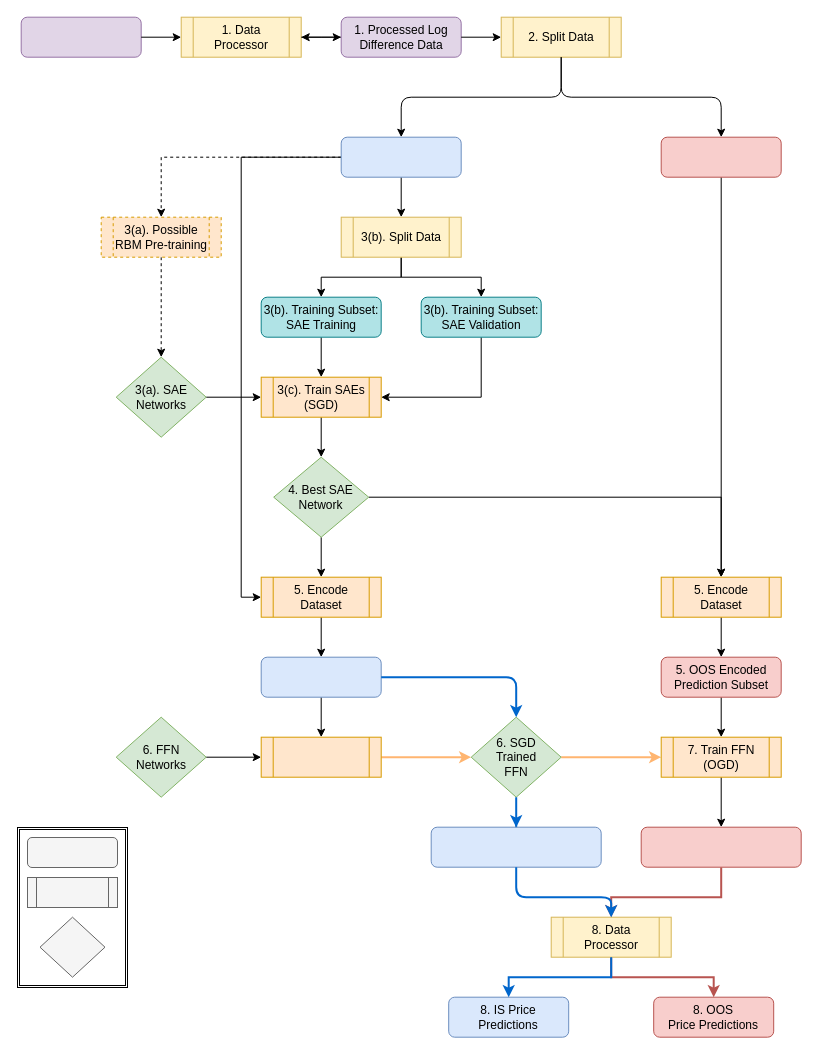
Image size: 819x1055. Some labels were removed from this diagram. Here are the shapes that lost their labels. From the top down, the centre of each, then its label:
the point at 80,36: 1. Raw Market Data
the point at 400,156: 2. IS Training Subset
the point at 720,156: 2. OOS Prediction Subset
the point at 320,676: 5. IS Encoded Training Subset
the point at 320,756: 6. Train FFNs (SGD)
the point at 72,852: Dataset Object
the point at 515,846: 6(a). IS Price Fluctuation Predictions (Scaled & Log-differenced)
the point at 720,846: 7. OOS Price Fluctuation Predictions (Scaled & Log-differenced)
the point at 72,892: Process
the point at 72,946: Neural Network
